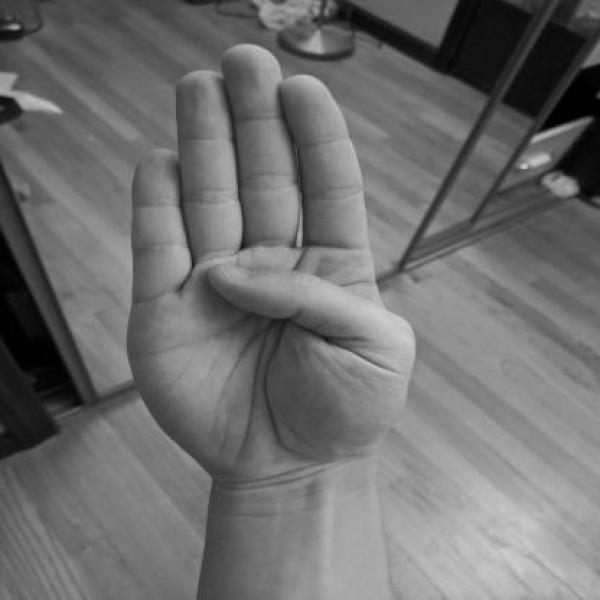B: (115, 35, 430, 502)
